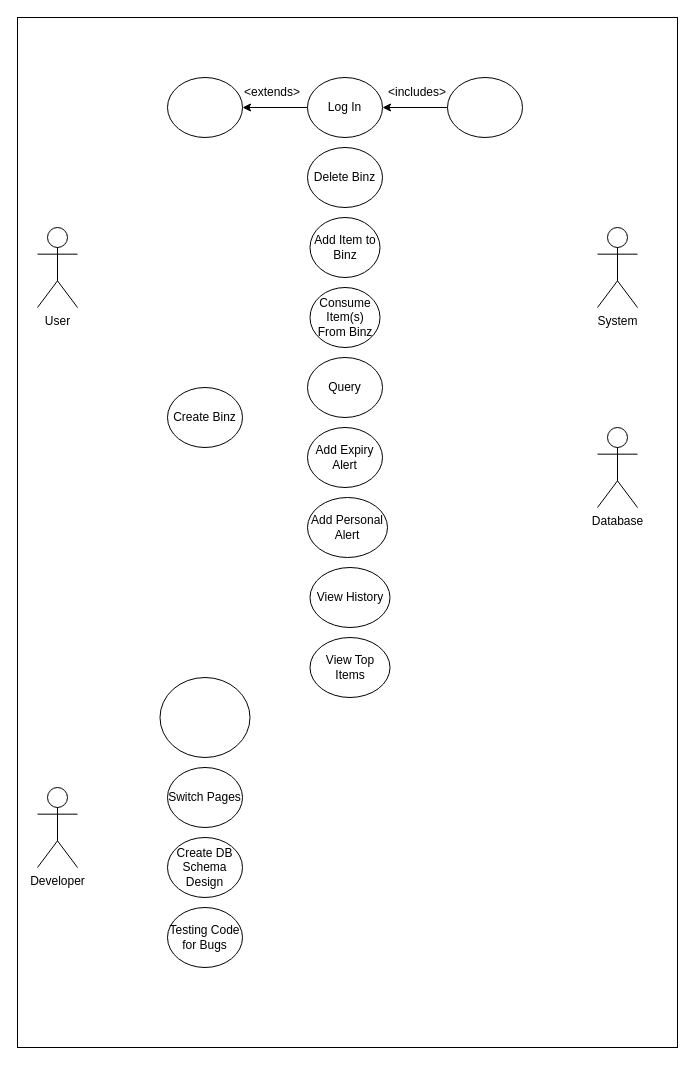
Some shapes in this 695 by 1065 pixel diagram are drawn without their labels. Each missing label, with the centre of its shape:
"Log Out" belongs at point 484,107.
"Sign Up" belongs at point 204,107.
"User Interface Enhancements" belongs at point 204,717.
